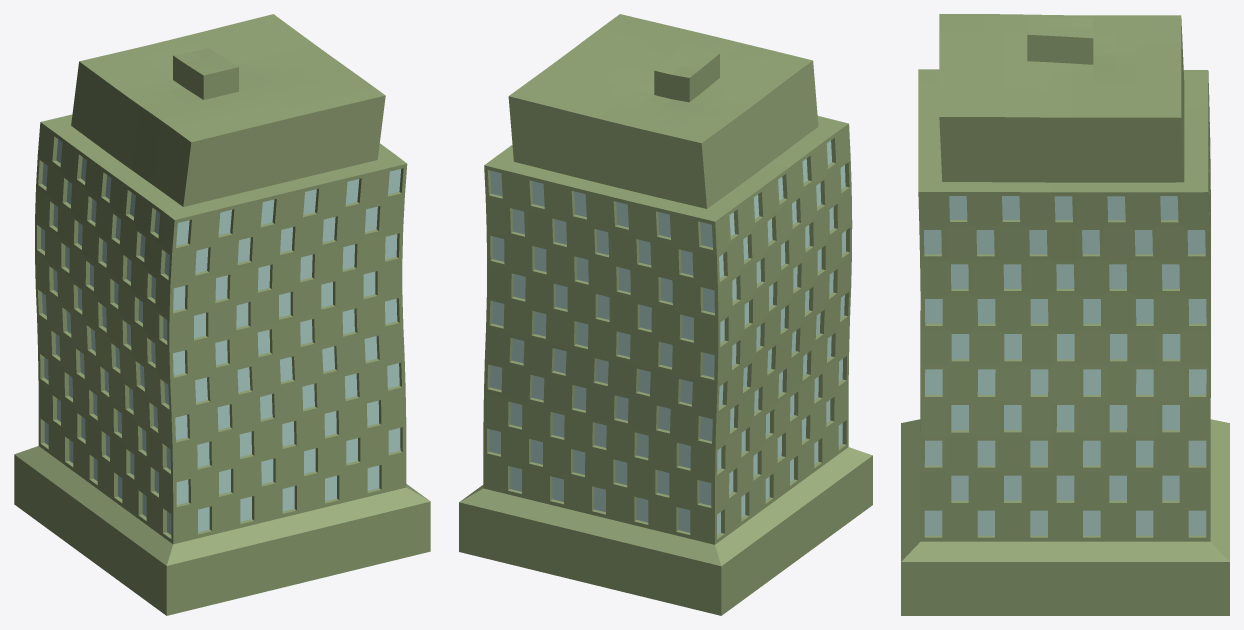
File: building3.fbx
3 renders of one model, left to right at view 1: azimuth 30°, elevation 25°; view 2: azimuth 150°, elevation 25°; view 3: azimuth 270°, elevation 25°, orthographic. The views are drawn at different scales.
Parts seen in each view (by area): view 1: Cube.002; view 2: Cube.002; view 3: Cube.002.
Boxes of the visible parts, left/top/right/bottom form: Cube.002: left=14, top=14, right=430, bottom=615; Cube.002: left=459, top=14, right=872, bottom=615; Cube.002: left=901, top=14, right=1229, bottom=615.
Size of the model in its own units: 227 by 391 by 227.
